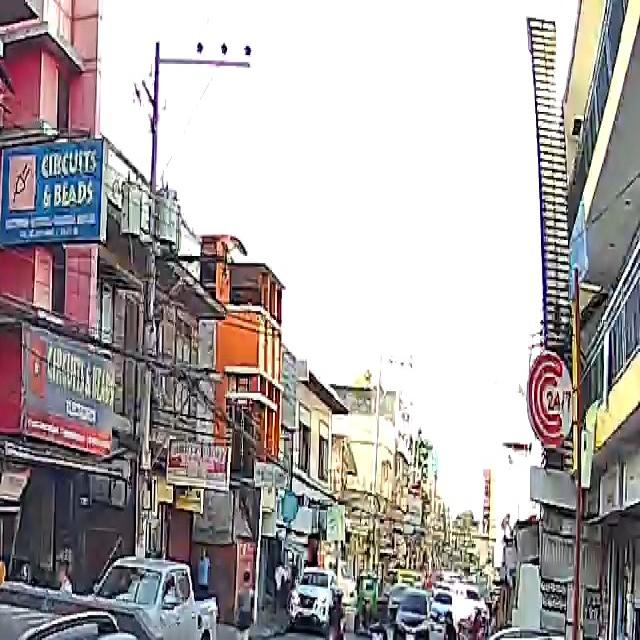car: (0, 576, 240, 640), (95, 553, 219, 640), (291, 573, 338, 633), (468, 624, 584, 640), (392, 592, 429, 636)
